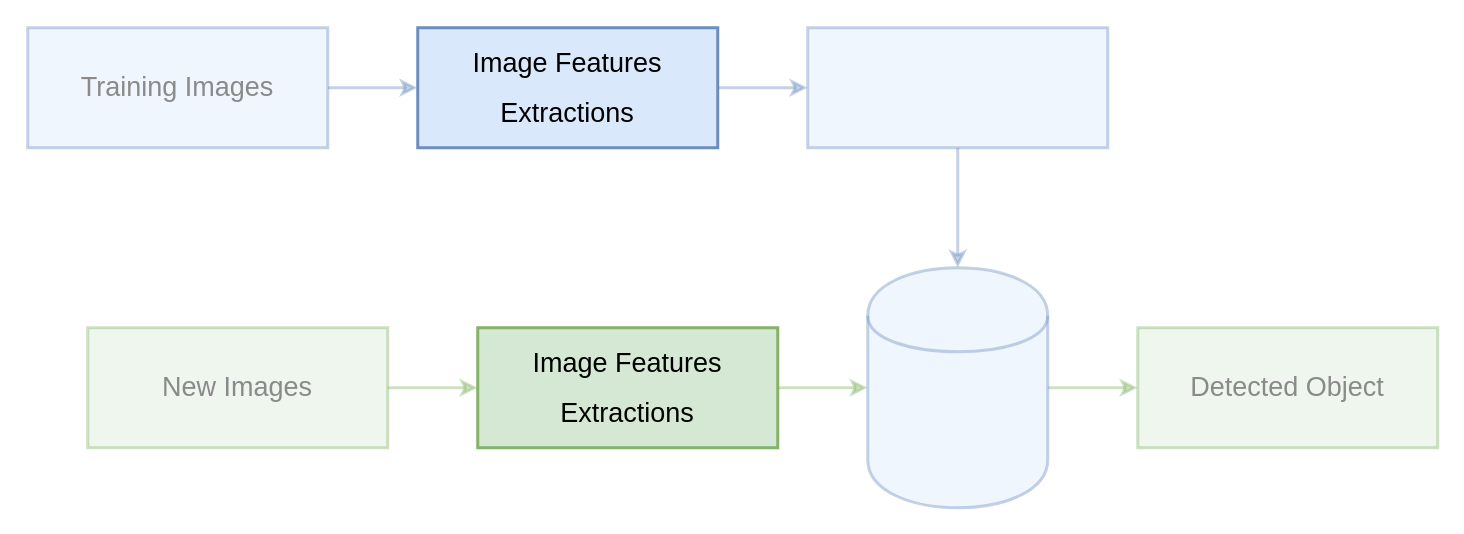
Image size: 1464x534. Some labels were removed from this diagram. The box of each missing label's shape, as (x1, y1, x2, y2) in pixels:
Machine Learning Algorithm: (806, 26, 1108, 148)
Trained Model: (866, 266, 1048, 508)
